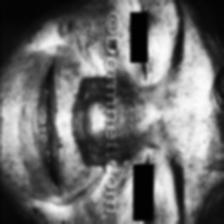Non-Cancerous Skin Condition: (67, 2, 101, 224), (119, 74, 202, 160), (0, 72, 26, 196), (32, 206, 65, 224), (53, 17, 64, 45)
